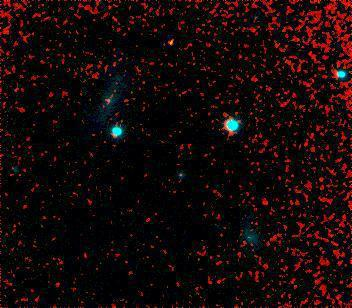star: (149, 23, 179, 53)
